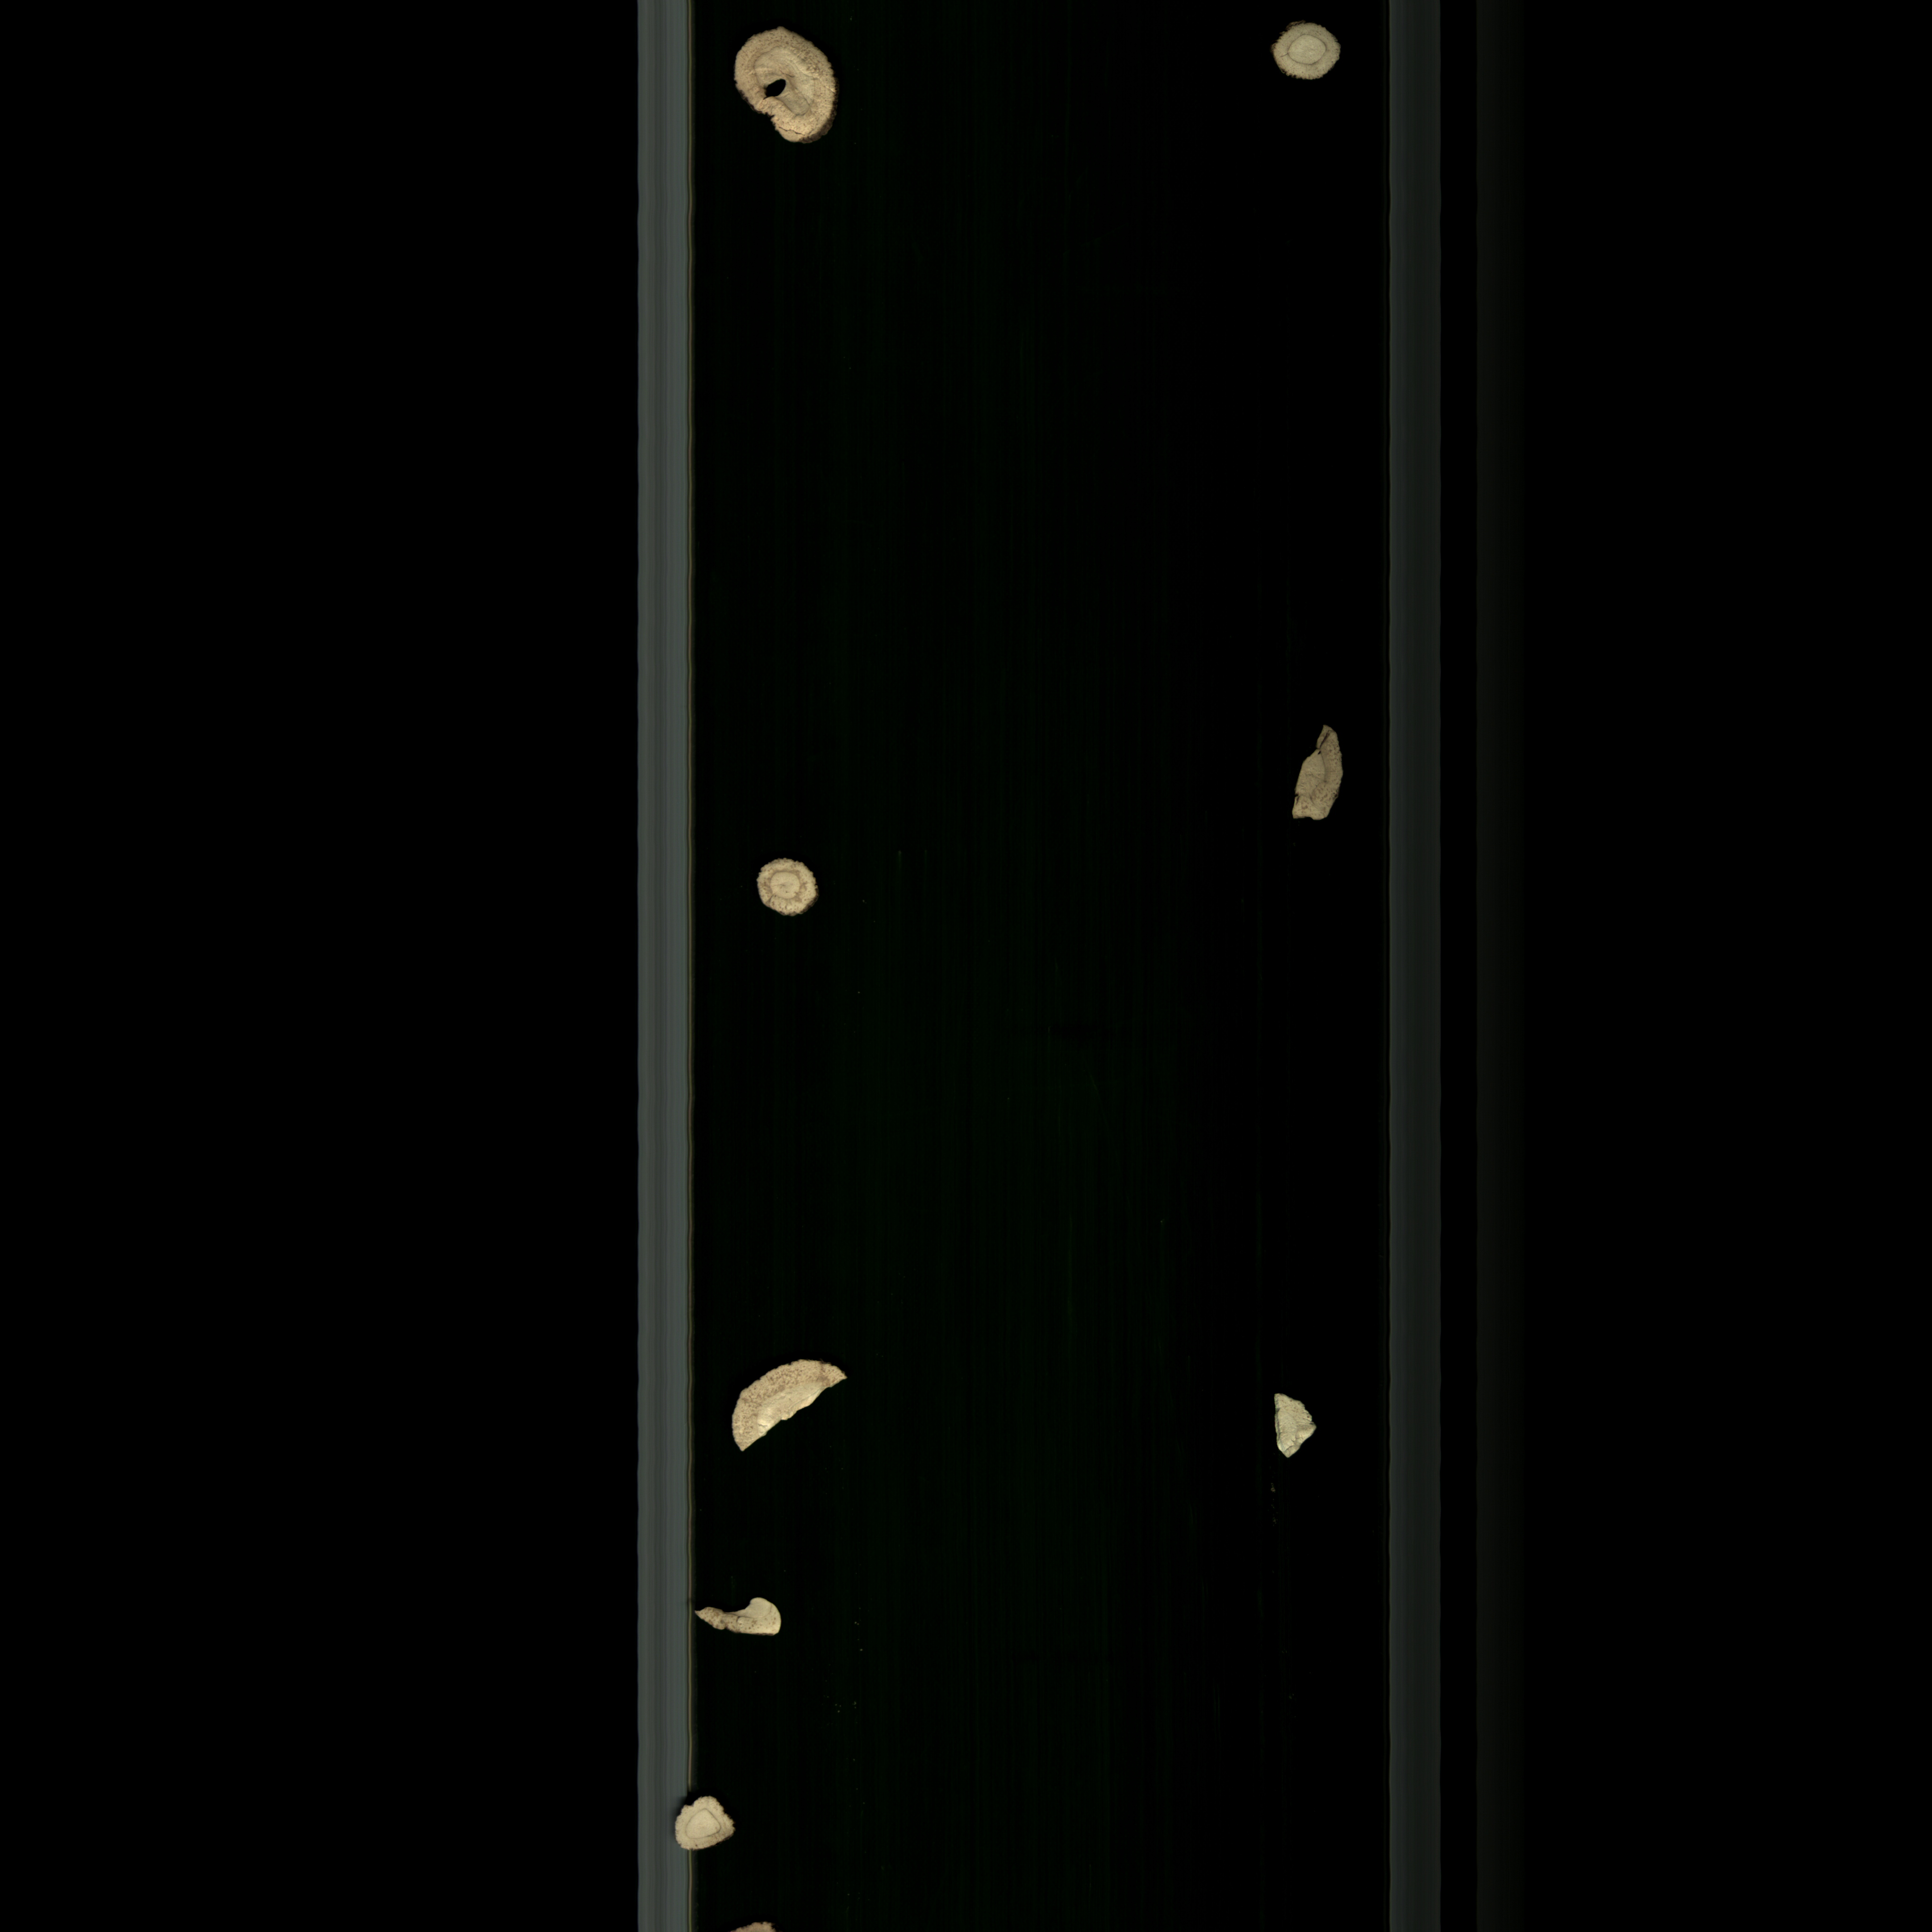debris: (727, 1345, 851, 1463), (1246, 1380, 1330, 1474), (697, 1587, 801, 1642)
distortion: (669, 1789, 755, 1859)
moldy: (729, 21, 860, 173), (1284, 715, 1355, 858), (748, 853, 821, 932)
